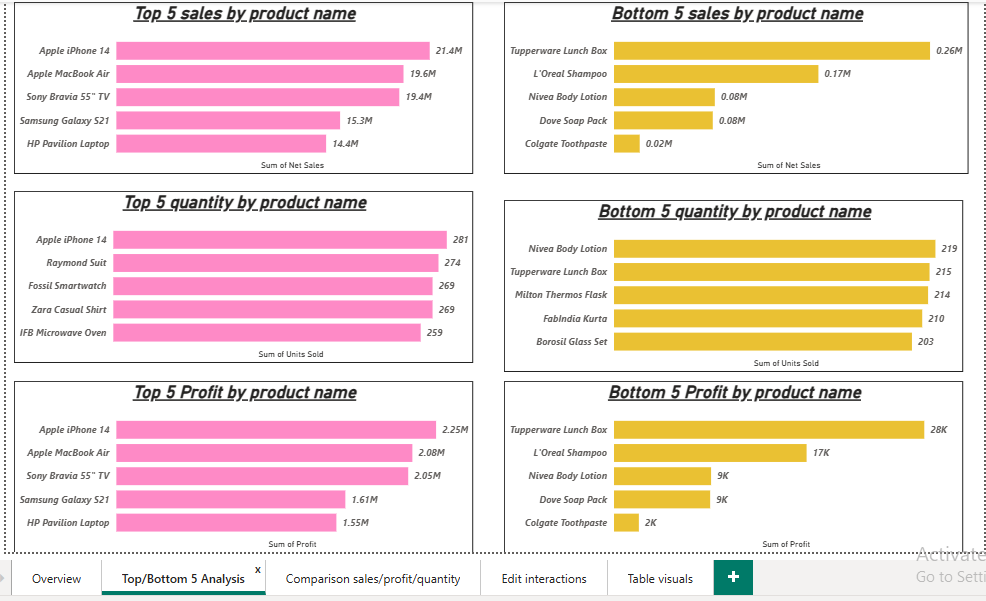

What the dashboard file says about the page in this screenshot:
{"tool":"powerbi","page":{"name":"Top/Bottom 5 Analysis","canvas":[1280,720],"ordinal":1},"visuals":[{"type":"barChart","title":"Top 5 sales by product name","fields":{"Category":["Dim Product.Product Name"],"Y":["Sum(Fact Table.Net Sales)"]},"box":[10.1,0,601.4,225.1],"z":0},{"type":"barChart","title":"Bottom 5 sales by product name","fields":{"Category":["Dim Product.Product Name"],"Y":["Sum(Fact Table.Net Sales)"]},"box":[651.8,0,608.1,225.1],"z":1000},{"type":"barChart","title":"Top 5 quantity by product name","fields":{"Category":["Dim Product.Product Name"],"Y":["Sum(Fact Table.Units Sold)"]},"box":[10.1,246.9,601.4,225.1],"z":2000},{"type":"barChart","title":"Bottom 5 quantity by product name","fields":{"Category":["Dim Product.Product Name"],"Y":["Sum(Fact Table.Units Sold)"]},"box":[651.8,258.7,601.4,225.1],"z":3000},{"type":"barChart","title":"Top 5 Profit by product name","fields":{"Category":["Dim Product.Product Name"],"Y":["Sum(Fact Table.Profit)"]},"box":[10.1,495.5,601.4,225.1],"z":4000},{"type":"barChart","title":"Bottom 5 Profit by product name","fields":{"Category":["Dim Product.Product Name"],"Y":["Sum(Fact Table.Profit)"]},"box":[651.8,495.5,601.4,225.1],"z":5000}]}

Visuals, with their boxes in screenshot pixels (x1, y1, x2, y2):
"Top 5 sales by product name" barChart: rect(13, 3, 470, 174)
"Bottom 5 sales by product name" barChart: rect(500, 3, 962, 174)
"Top 5 quantity by product name" barChart: rect(13, 190, 470, 361)
"Bottom 5 quantity by product name" barChart: rect(500, 199, 957, 370)
"Top 5 Profit by product name" barChart: rect(13, 379, 470, 550)
"Bottom 5 Profit by product name" barChart: rect(500, 379, 957, 550)
